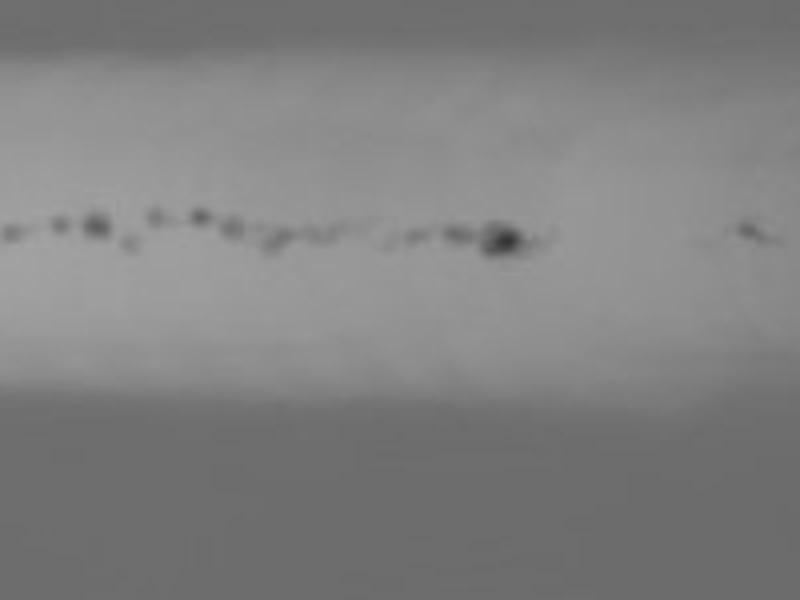defect: (477, 220, 523, 258), (307, 222, 347, 248), (261, 225, 296, 253), (2, 218, 32, 246), (219, 214, 246, 242), (82, 211, 112, 234), (732, 216, 763, 238), (444, 221, 471, 242), (401, 226, 432, 244), (144, 208, 166, 230), (189, 208, 212, 227), (50, 212, 68, 234), (377, 233, 398, 251), (247, 214, 268, 230), (123, 235, 142, 251)
